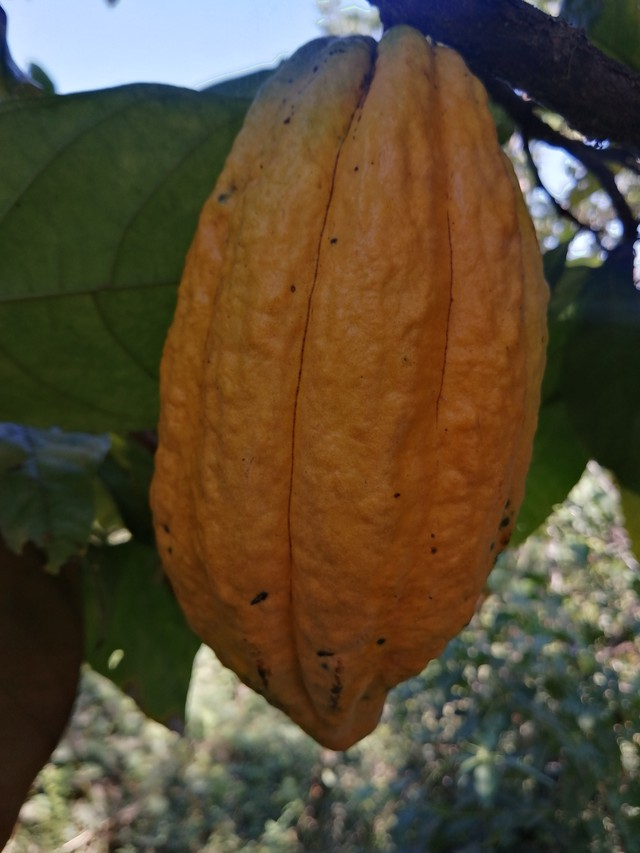Health: (110, 13, 568, 759)
